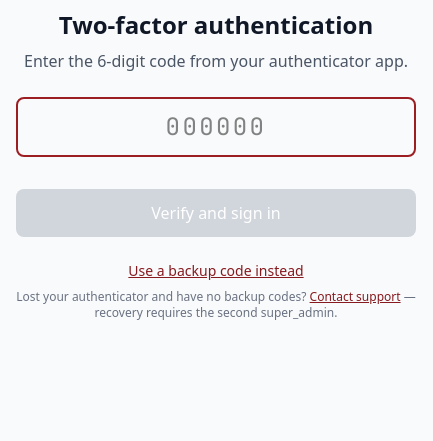
MfaChallengePage › shows lockout message on MFA_LOCKED_OUT response
In the field named "one-time code": coordinates (216, 127) [16,97,416,157], type "999999"
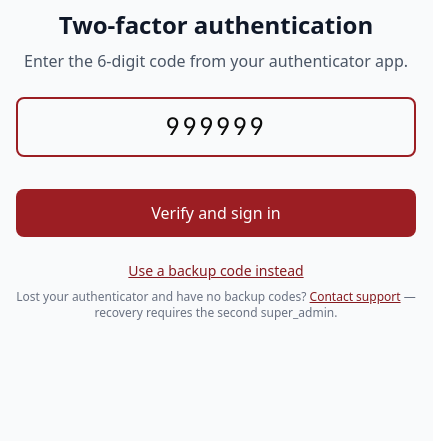
Click the button "Verify and sign in": coordinates (216, 213) [16,189,416,237]
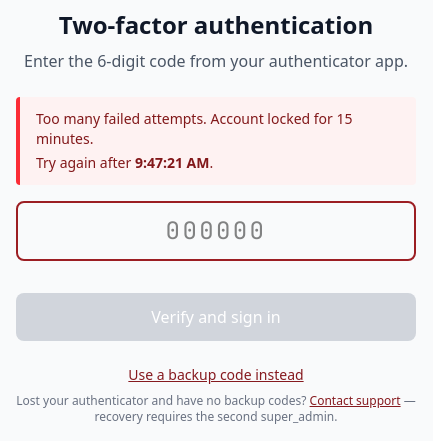
Expected: the text "Too many failed attempts" is shown, [36,109,352,148]
Expected: the text "Try again after 9:47:21 AM." is shown, [36,153,213,172]
